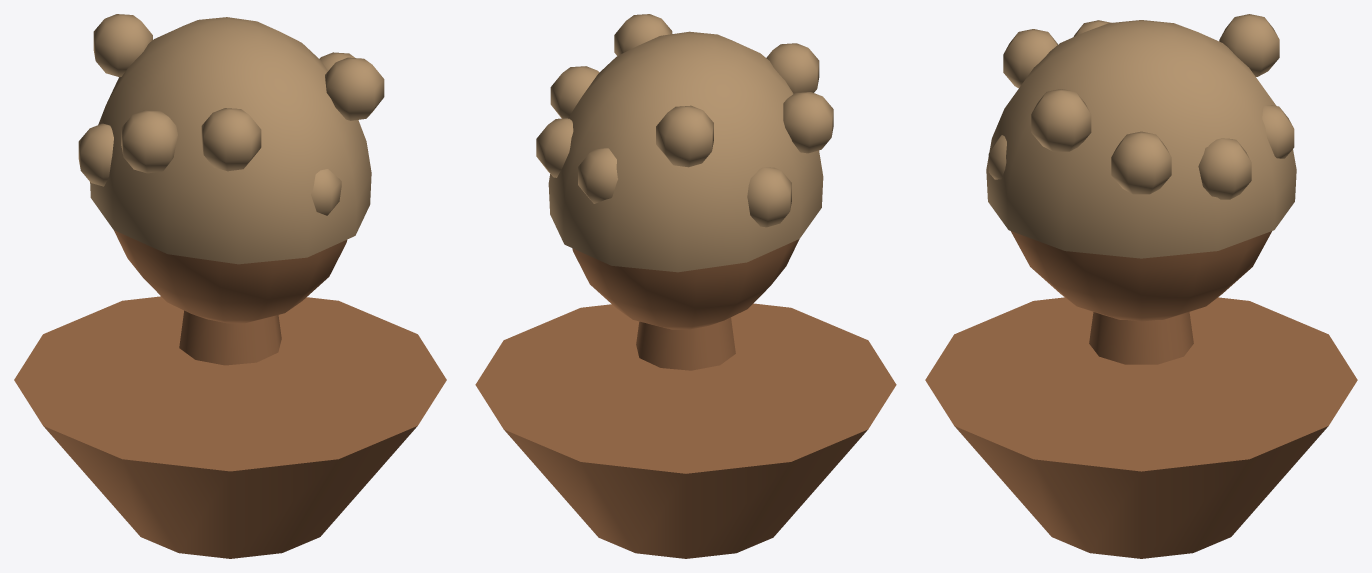
Rendered from raw_003.glb.
3 views of the same model, side by side, from view 1: azimuth 30°, elevation 25°; view 2: azimuth 150°, elevation 25°; view 3: azimuth 270°, elevation 25° (orthographic). The views are drawn at different scales.
Bounding box in the file's own units: 1.73 × 2.14 × 1.73.
